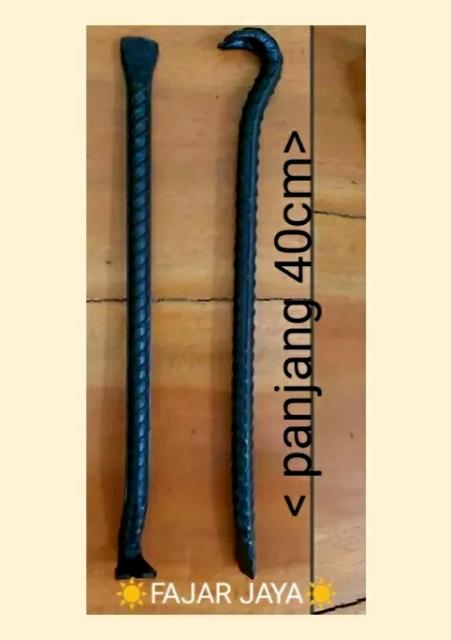crow bar: (206, 23, 287, 579), (111, 33, 164, 581)
